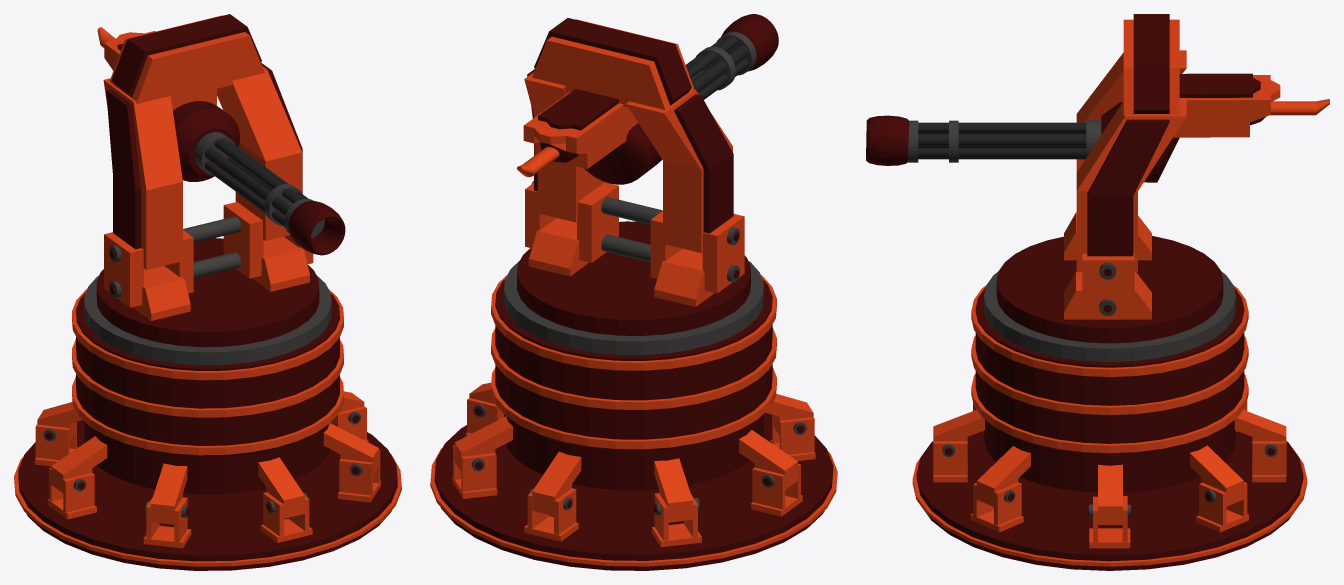
Rendered from Turm 14.fbx.
The picture shows the model from 3 angles, left to right: view 1: azimuth 30°, elevation 25°; view 2: azimuth 150°, elevation 25°; view 3: azimuth 270°, elevation 25°; orthographic projection. The views are drawn at different scales.
Parts seen in each view (by area): view 1: Cylinder.003, Cube; view 2: Cylinder.003, Cube; view 3: Cylinder.003, Cube.
Boxes of the visible parts, bbox=[...] form: Cylinder.003: bbox=[14, 275, 401, 570]; Cube: bbox=[96, 14, 345, 347]; Cylinder.003: bbox=[430, 260, 837, 570]; Cube: bbox=[517, 14, 778, 335]; Cylinder.003: bbox=[912, 271, 1307, 570]; Cube: bbox=[866, 14, 1329, 343].
Bounding box in the file's own units: 470 × 591 × 552.
